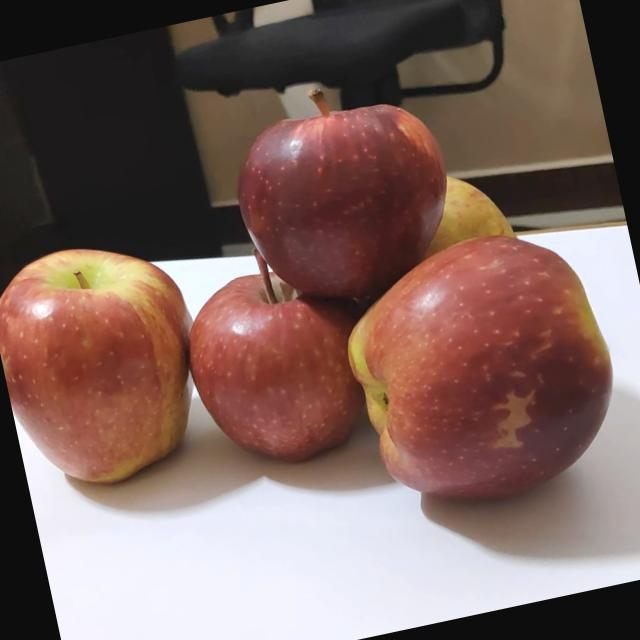apple: (327, 211, 631, 519), (210, 66, 468, 322), (0, 223, 217, 509), (164, 229, 381, 485), (378, 152, 530, 292)
